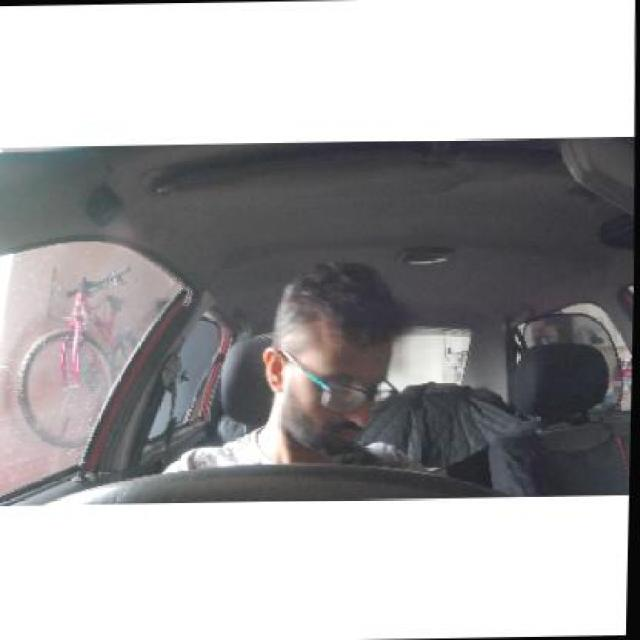drowsy: (273, 258, 405, 450)
